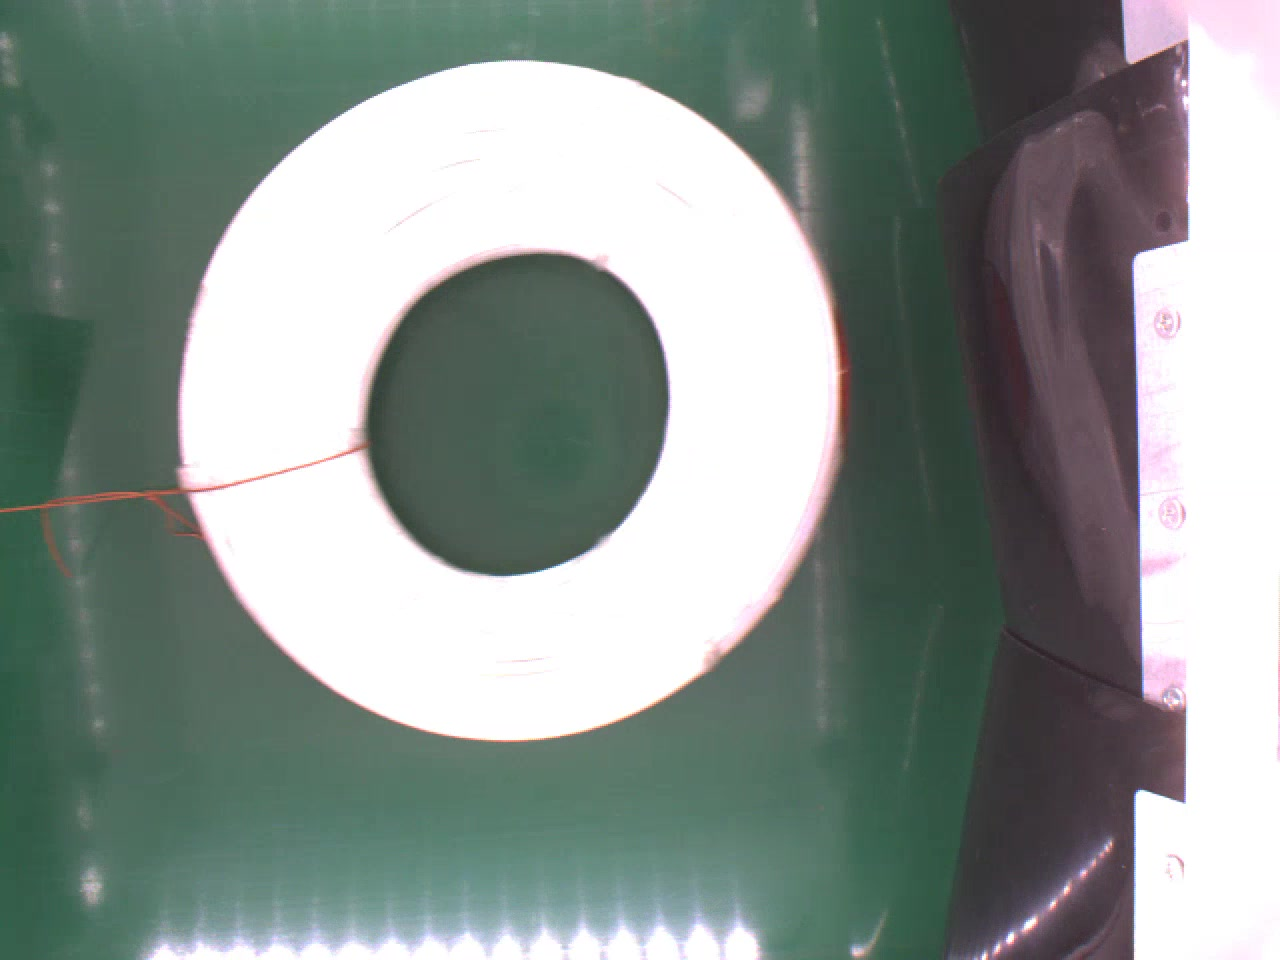white: (165, 57, 862, 741)
